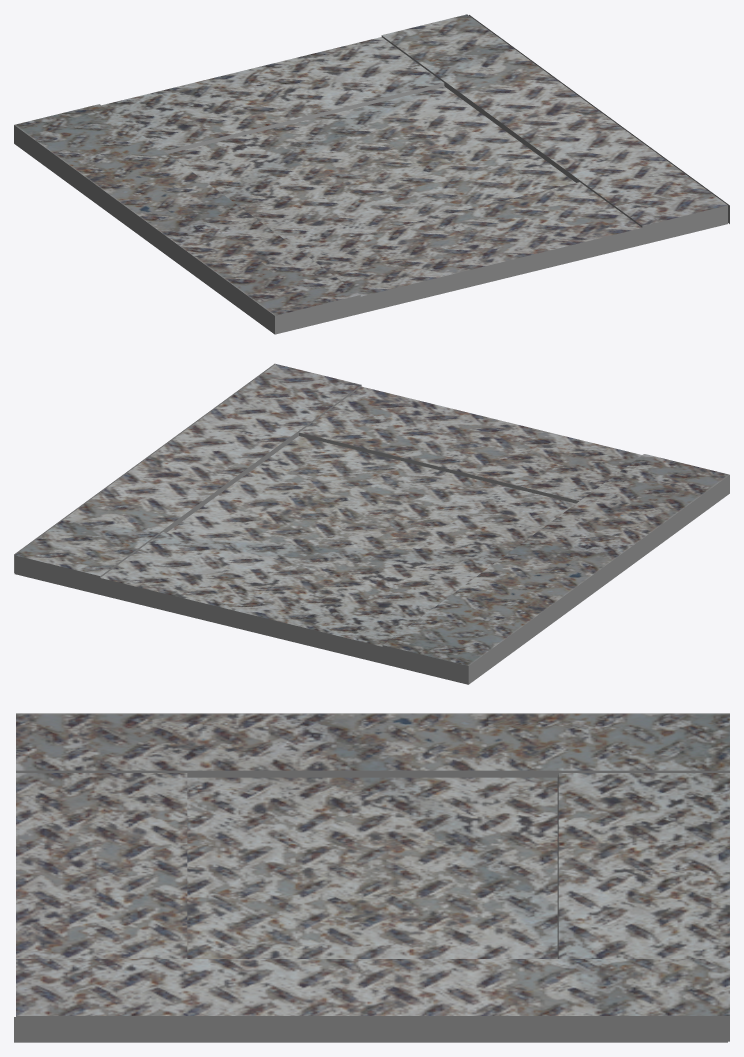
Rendered from floor_00.fbx.
3 views of the same model, one above another, from view 1: azimuth 30°, elevation 25°; view 2: azimuth 150°, elevation 25°; view 3: azimuth 270°, elevation 25° (orthographic). The views are drawn at different scales.
Parts seen in each view (by area): view 1: floor_00; view 2: floor_00; view 3: floor_00.
Part boxes in pixels (<box>): floor_00: <box>14,14,729,334</box>; floor_00: <box>14,363,729,684</box>; floor_00: <box>14,713,729,1042</box>.
Size of the model in its own units: 2.01 by 0.0792 by 2.
